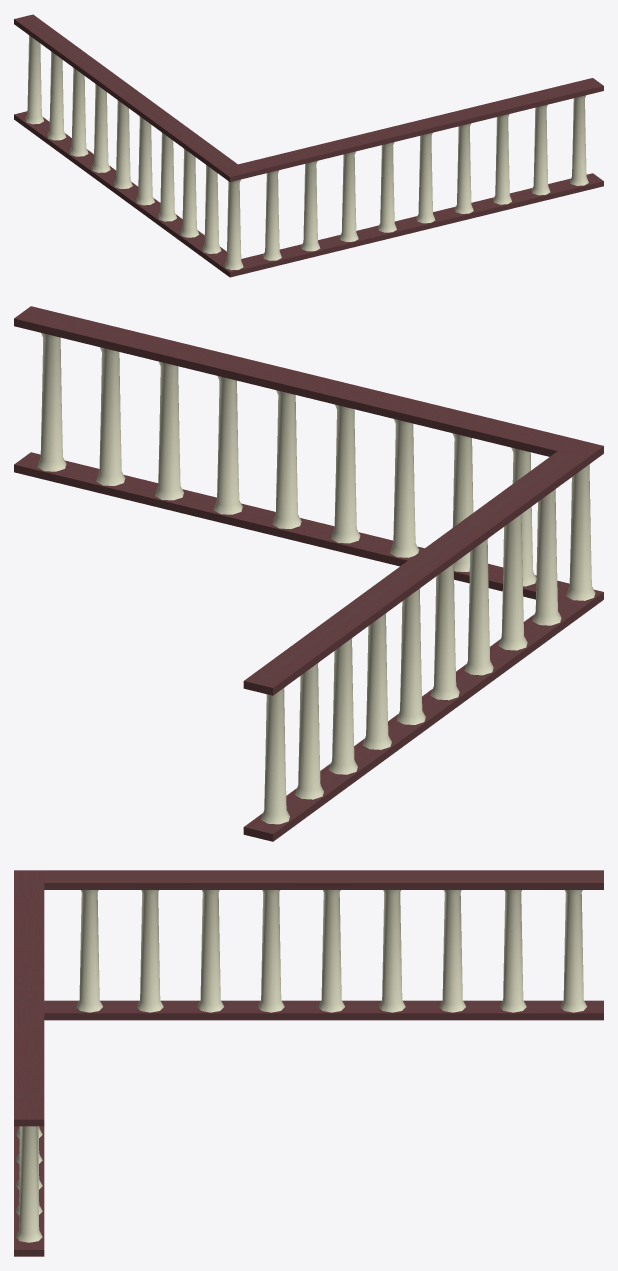
File: PR_RailCornerIn.fbx
3 views of the same model, one above another, from view 1: azimuth 30°, elevation 25°; view 2: azimuth 150°, elevation 25°; view 3: azimuth 270°, elevation 25° (orthographic). The views are drawn at different scales.
Visible parts, largest first — view 1: Railing; view 2: Railing; view 3: Railing.
Boxes of the visible parts, bbox=[...] form: Railing: bbox=[14, 14, 603, 277]; Railing: bbox=[14, 306, 603, 841]; Railing: bbox=[14, 870, 603, 1256].
Bounding box in the file's own units: 390 × 100 × 390.
